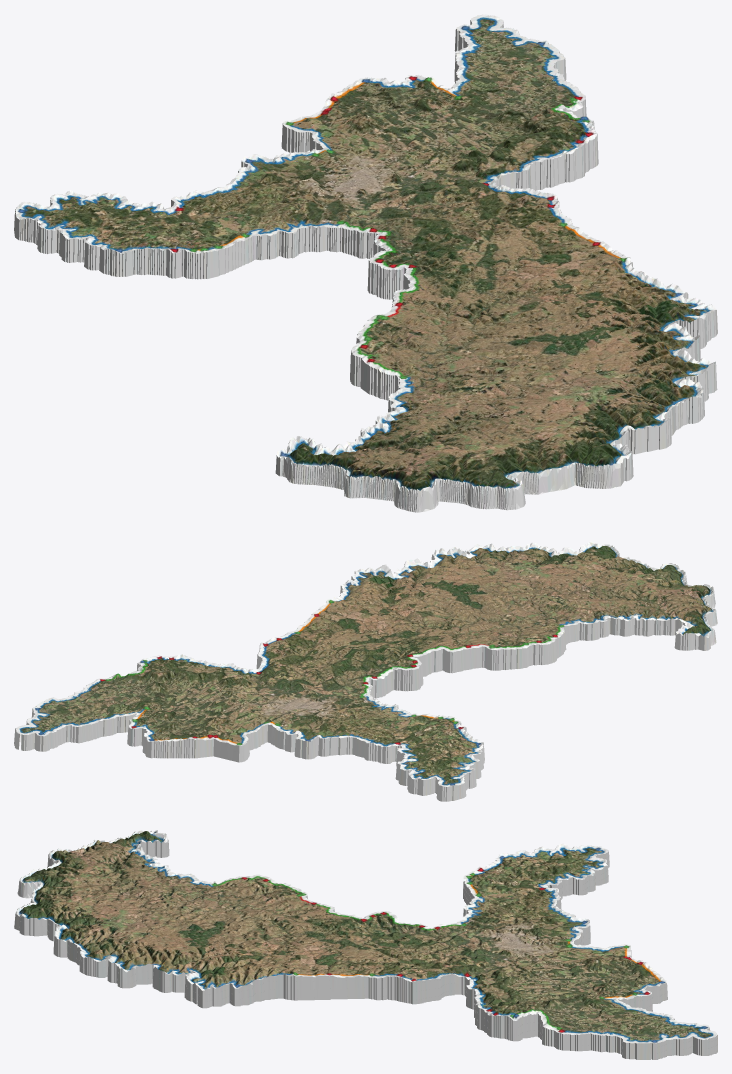
3 views of the same model, one above another, from view 1: azimuth 30°, elevation 25°; view 2: azimuth 150°, elevation 25°; view 3: azimuth 270°, elevation 25° (orthographic). The views are drawn at different scales.
Bounding box in the file's own units: 0.9965 × 0.0542 × 1.37.
Materials: 1 (1 with a texture image).
